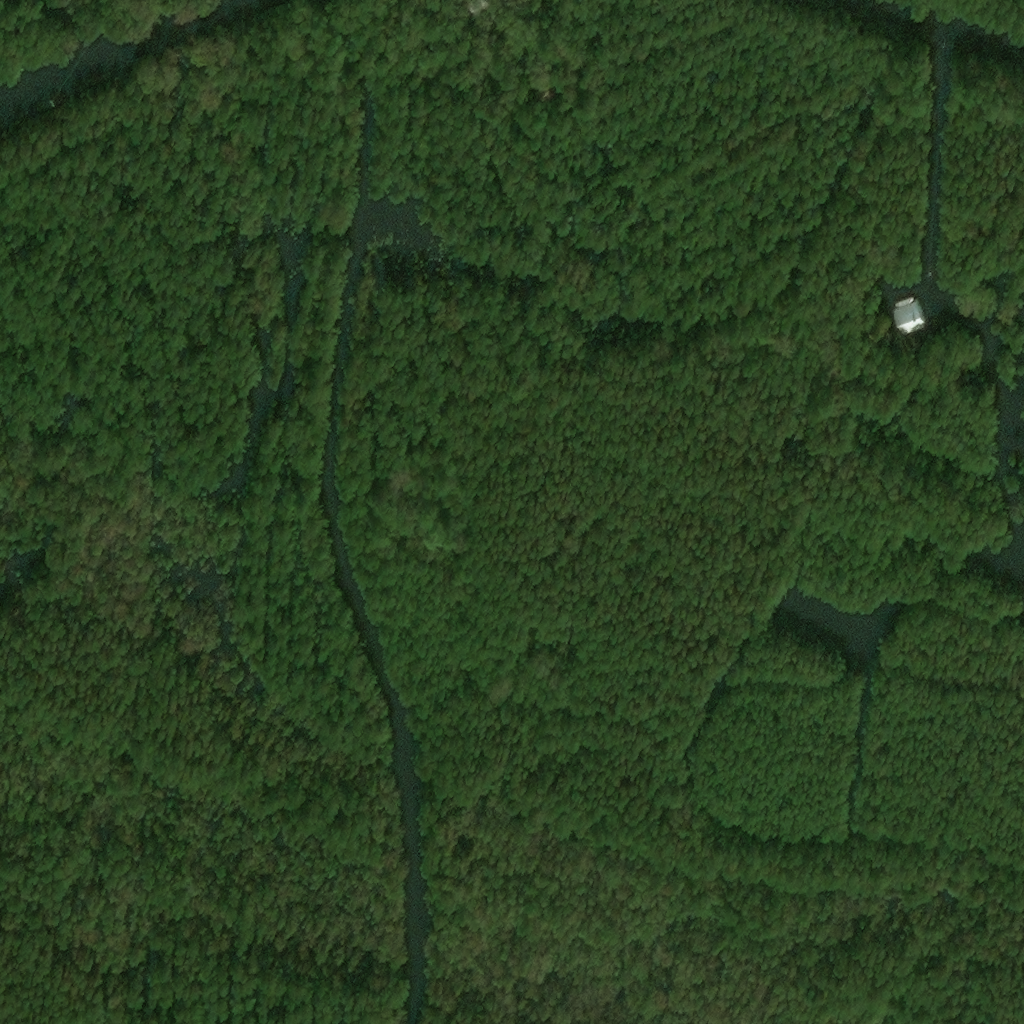major_damage: (891, 297, 926, 335)
